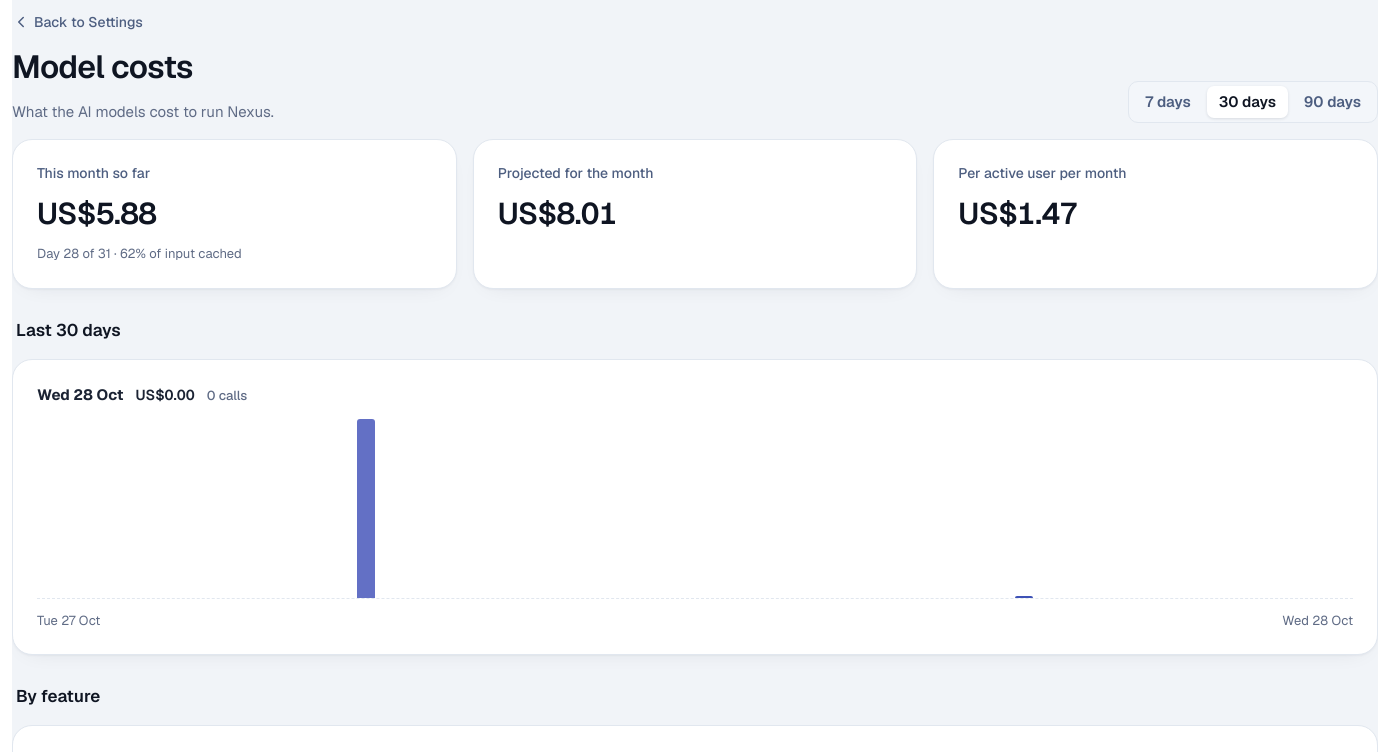
it: Model costs › asks again for the range picked
Click the button "90 days": (1332, 102) x1=1292 y1=86 x2=1373 y2=118
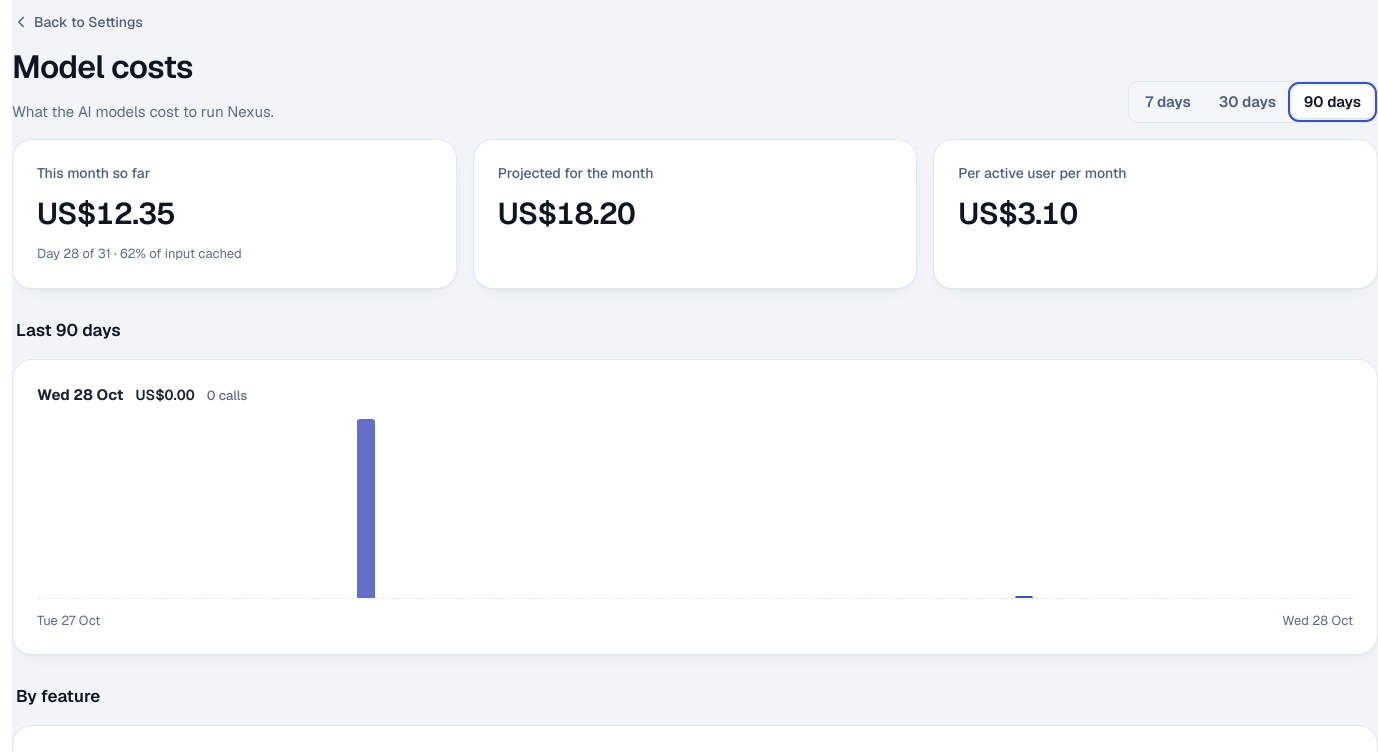
expect the heading "Last 90 days" is shown: met, box x1=16 y1=319 x2=120 y2=341
